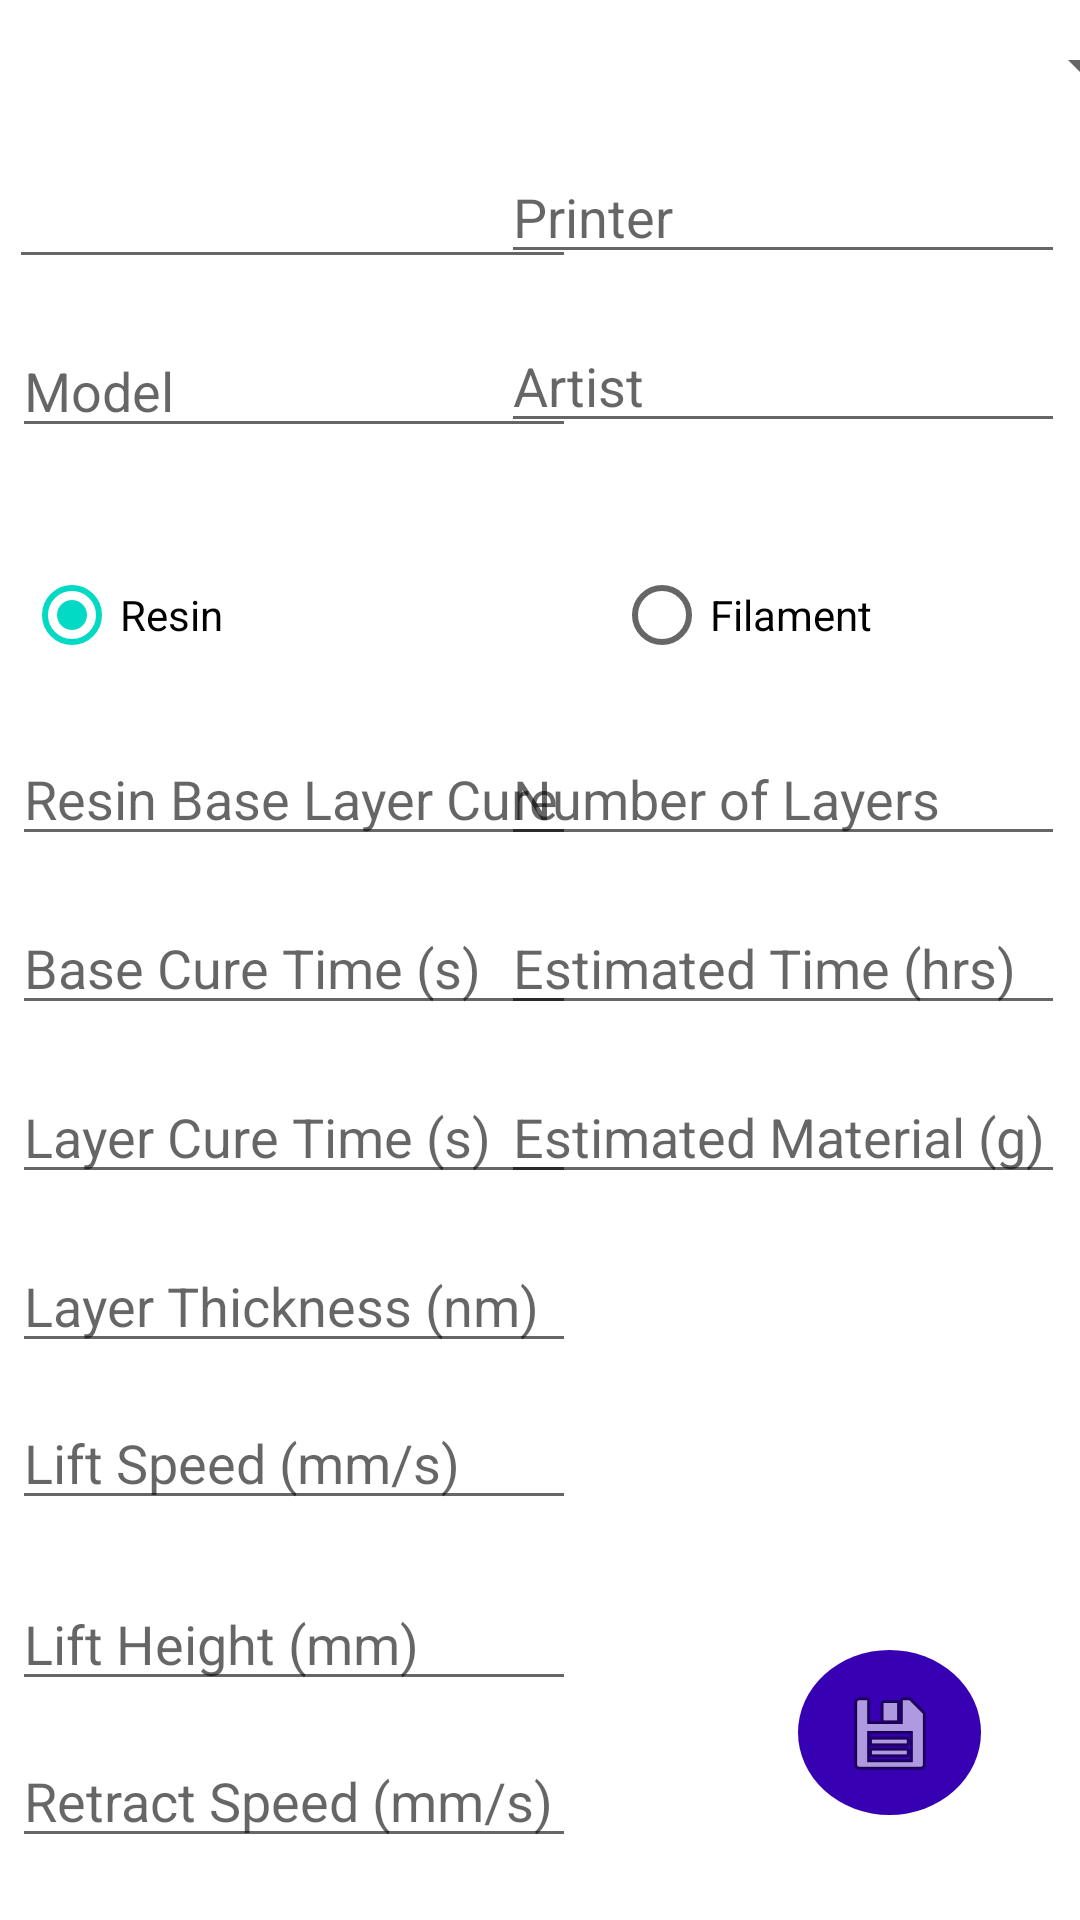

Icons on this 1080×1920 Android screen, each with the point to tap as (x=x, y=y):
Save: (x=889, y=1732)
